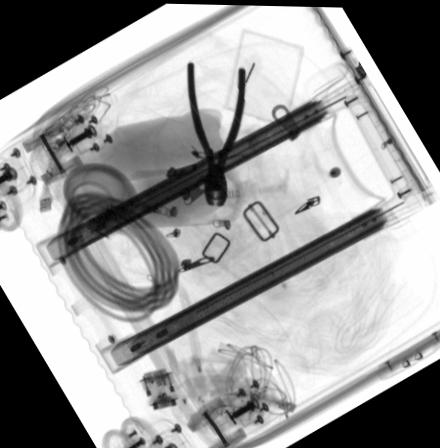Pliers: (186, 60, 245, 208)
